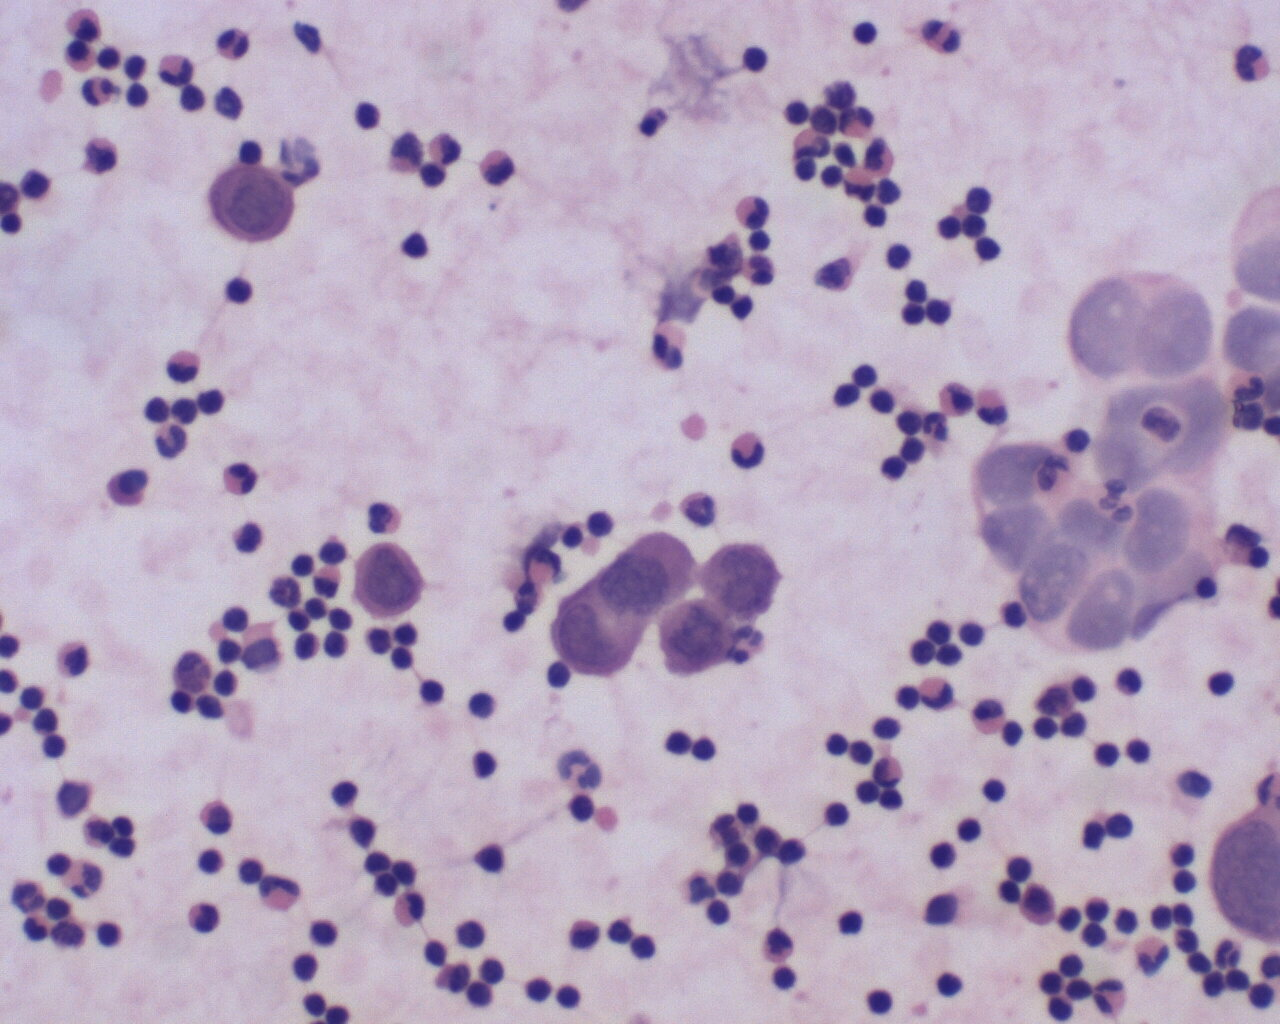ab: (549, 583, 645, 683), (201, 163, 300, 248), (600, 532, 694, 616), (655, 596, 737, 678), (702, 540, 783, 621), (351, 543, 428, 625)
lymph: (218, 269, 261, 312), (322, 774, 366, 813), (288, 945, 325, 990), (411, 675, 453, 712), (88, 912, 127, 950), (474, 836, 507, 881), (927, 834, 963, 871), (929, 969, 965, 1004), (1205, 665, 1240, 700), (848, 358, 885, 393), (394, 230, 433, 262), (956, 616, 991, 652), (981, 772, 1010, 809), (823, 797, 854, 830), (851, 20, 882, 49)
meso: (1021, 882, 1063, 930)
neutro: (215, 458, 267, 503), (727, 424, 770, 470), (213, 27, 254, 66), (1212, 933, 1250, 971)
